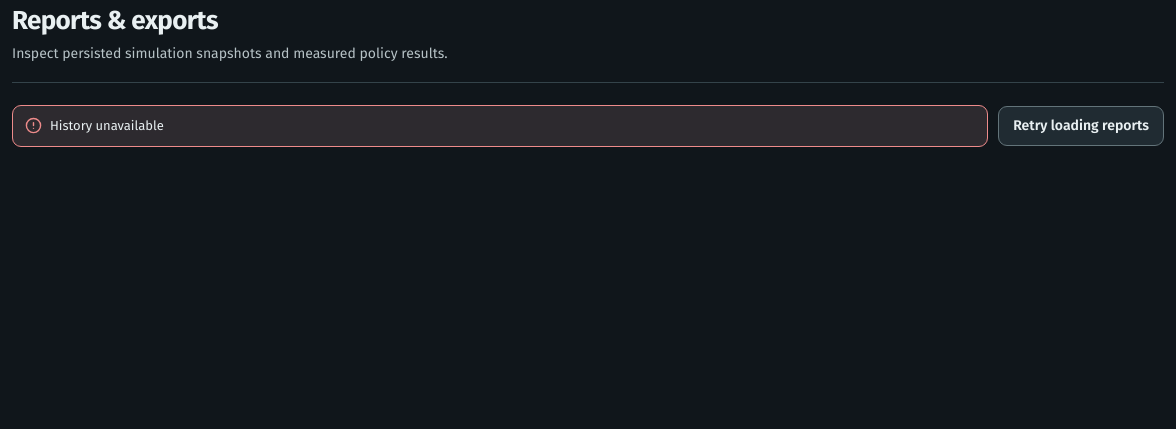
Scenario: Reports page › distinguishes failed history loading from a successful empty report list and retries
Expected: the message reads "History unavailable", left=50, top=118, right=164, bottom=133
Expected: the text "No completed simulations" is not shown
Click the button "Retry loading reports".
click(1081, 126)  # box left=998, top=106, right=1164, bottom=146
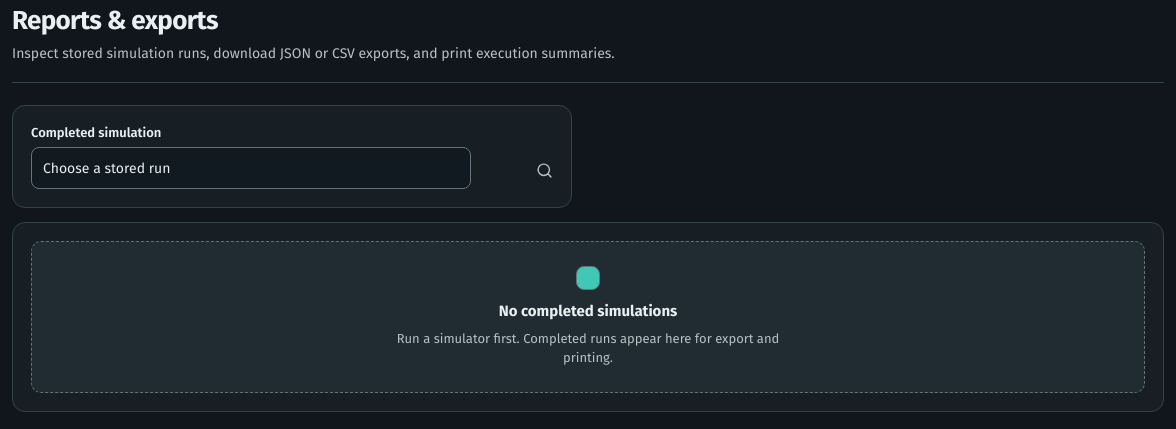
Now the text "No completed simulations" is shown, box left=499, top=300, right=677, bottom=323
